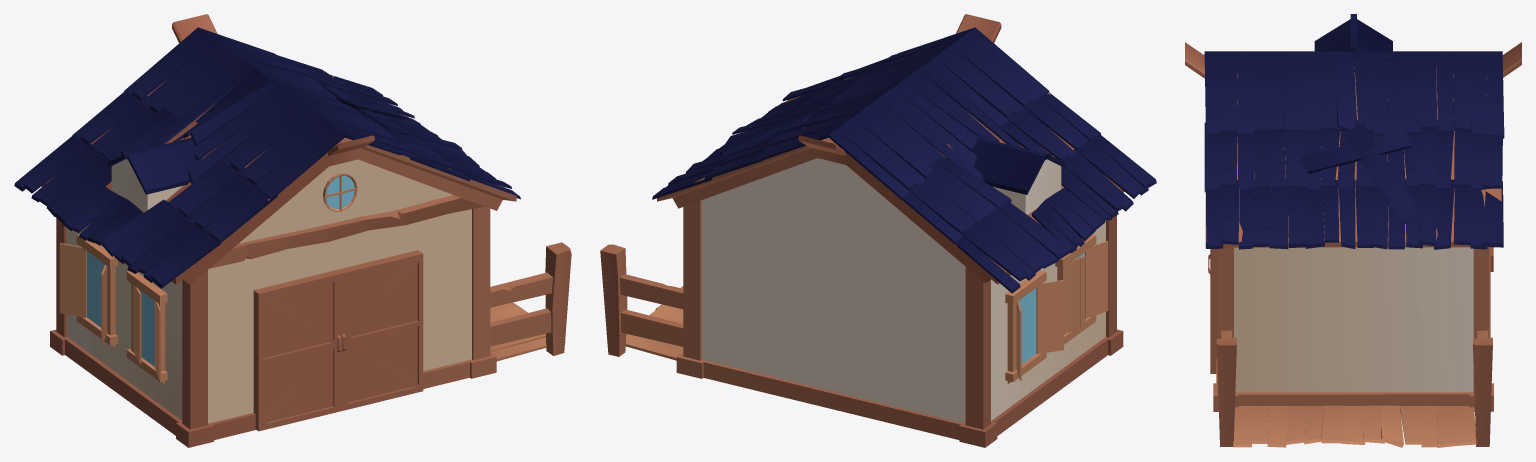
The model's file is Armazem de materiais brutos.fbx.
3 views of the same model, side by side, from view 1: azimuth 30°, elevation 25°; view 2: azimuth 150°, elevation 25°; view 3: azimuth 270°, elevation 25° (orthographic).
Parts seen in each view (by area): view 1: Armazem de materiais brutos.001; view 2: Armazem de materiais brutos.001; view 3: Armazem de materiais brutos.001.
Boxes of the visible parts, box(x1,y1,x2,y2) form: Armazem de materiais brutos.001: box(14, 14, 571, 447); Armazem de materiais brutos.001: box(600, 14, 1156, 447); Armazem de materiais brutos.001: box(1185, 14, 1521, 447).
Bounding box in the file's own units: 849 × 538 × 575.
